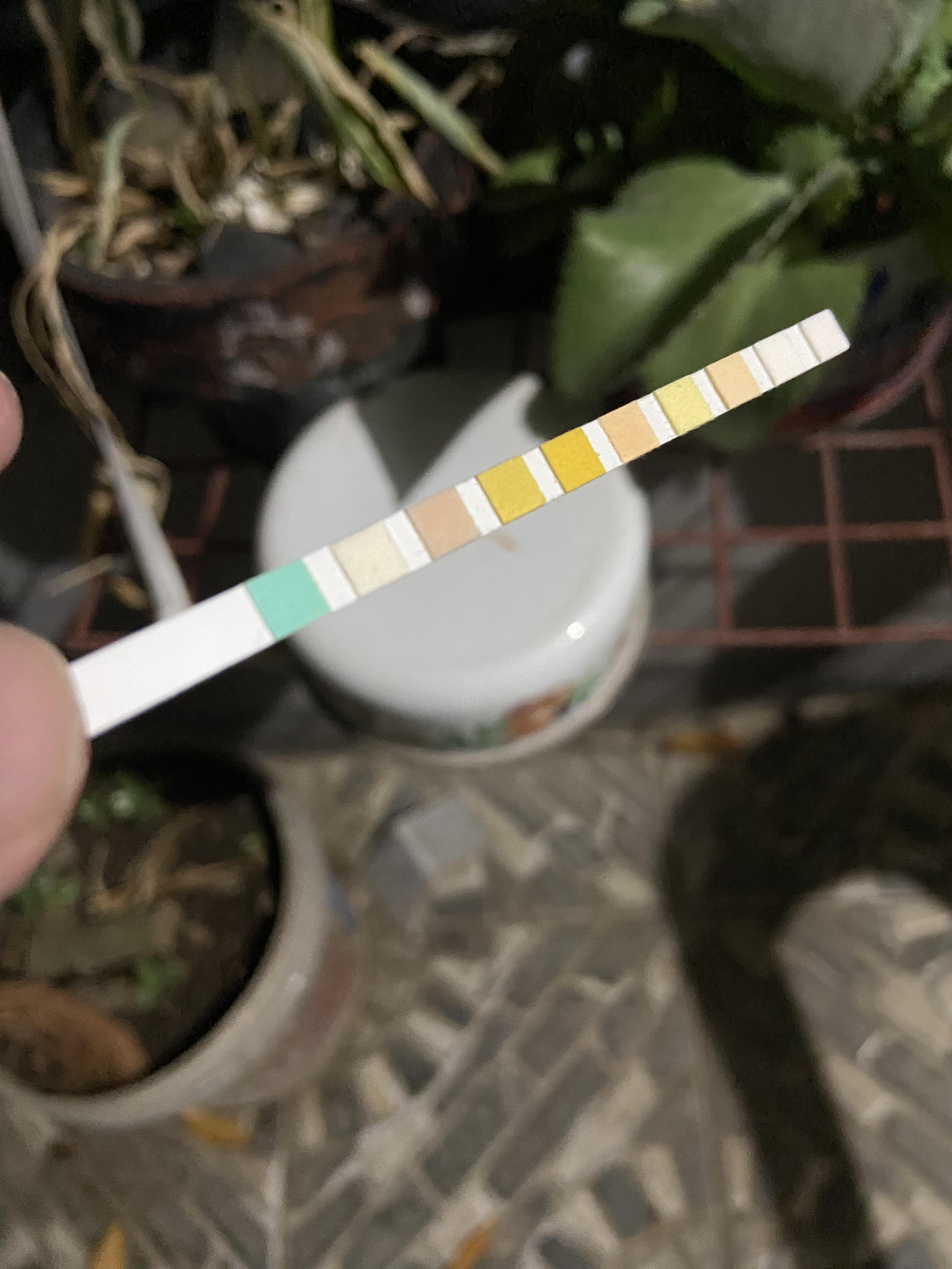Bilirubin: (351, 537, 394, 580)
Blood: (557, 439, 591, 479)
Glucose: (267, 575, 314, 621)
Ketone: (426, 502, 464, 544)
Leukocytes: (812, 318, 835, 350)
Nitrite: (766, 341, 798, 371)
Protein: (671, 385, 698, 421)
SpGravity: (495, 469, 531, 510)
Urobilinogen: (722, 361, 748, 394)
pH: (614, 413, 646, 448)
strip: (76, 308, 852, 728)
